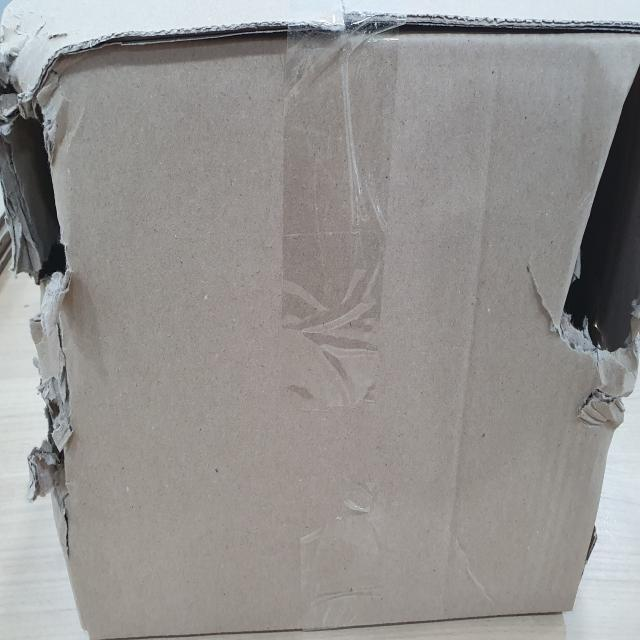hole: (556, 17, 640, 383), (2, 48, 80, 417)
